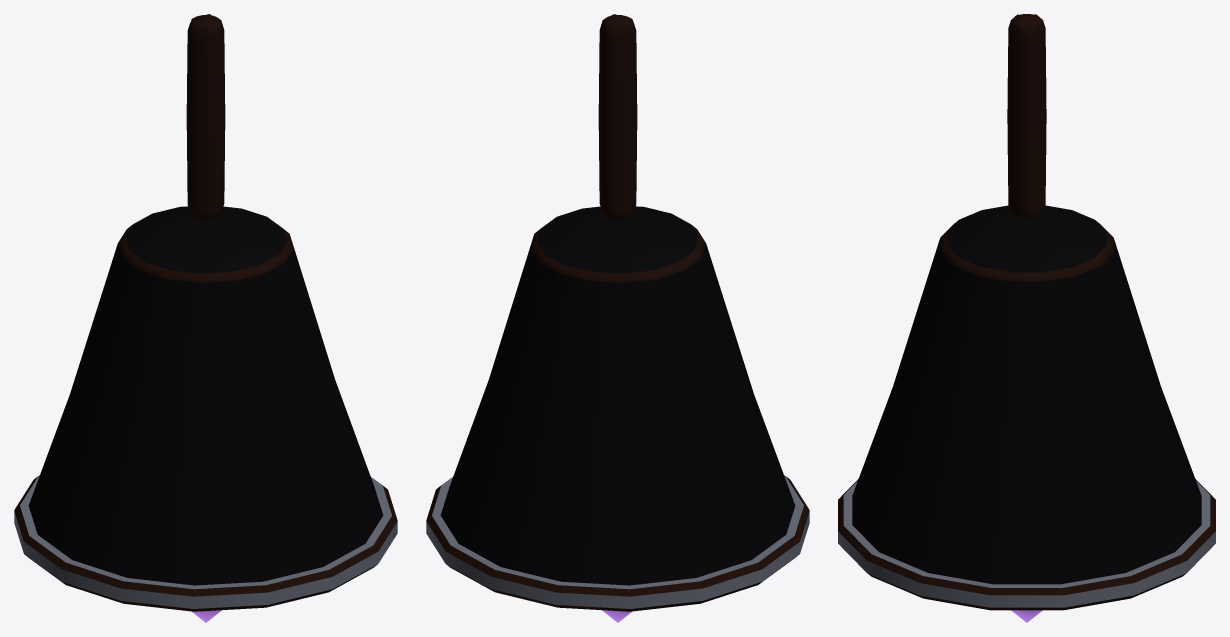
File: Arma_SinoSilencioEterno.fbx
3 views of the same model, side by side, from view 1: azimuth 30°, elevation 25°; view 2: azimuth 150°, elevation 25°; view 3: azimuth 270°, elevation 25° (orthographic).
Visible parts, largest first — view 1: Piece; view 2: Piece; view 3: Piece.
Boxes of the visible parts, box(x1,y1,x2,y2) form: Piece: box(14, 14, 397, 622); Piece: box(426, 14, 809, 622); Piece: box(838, 14, 1215, 622).
Size of the model in its own units: 0.304 by 0.5388 by 0.304.
